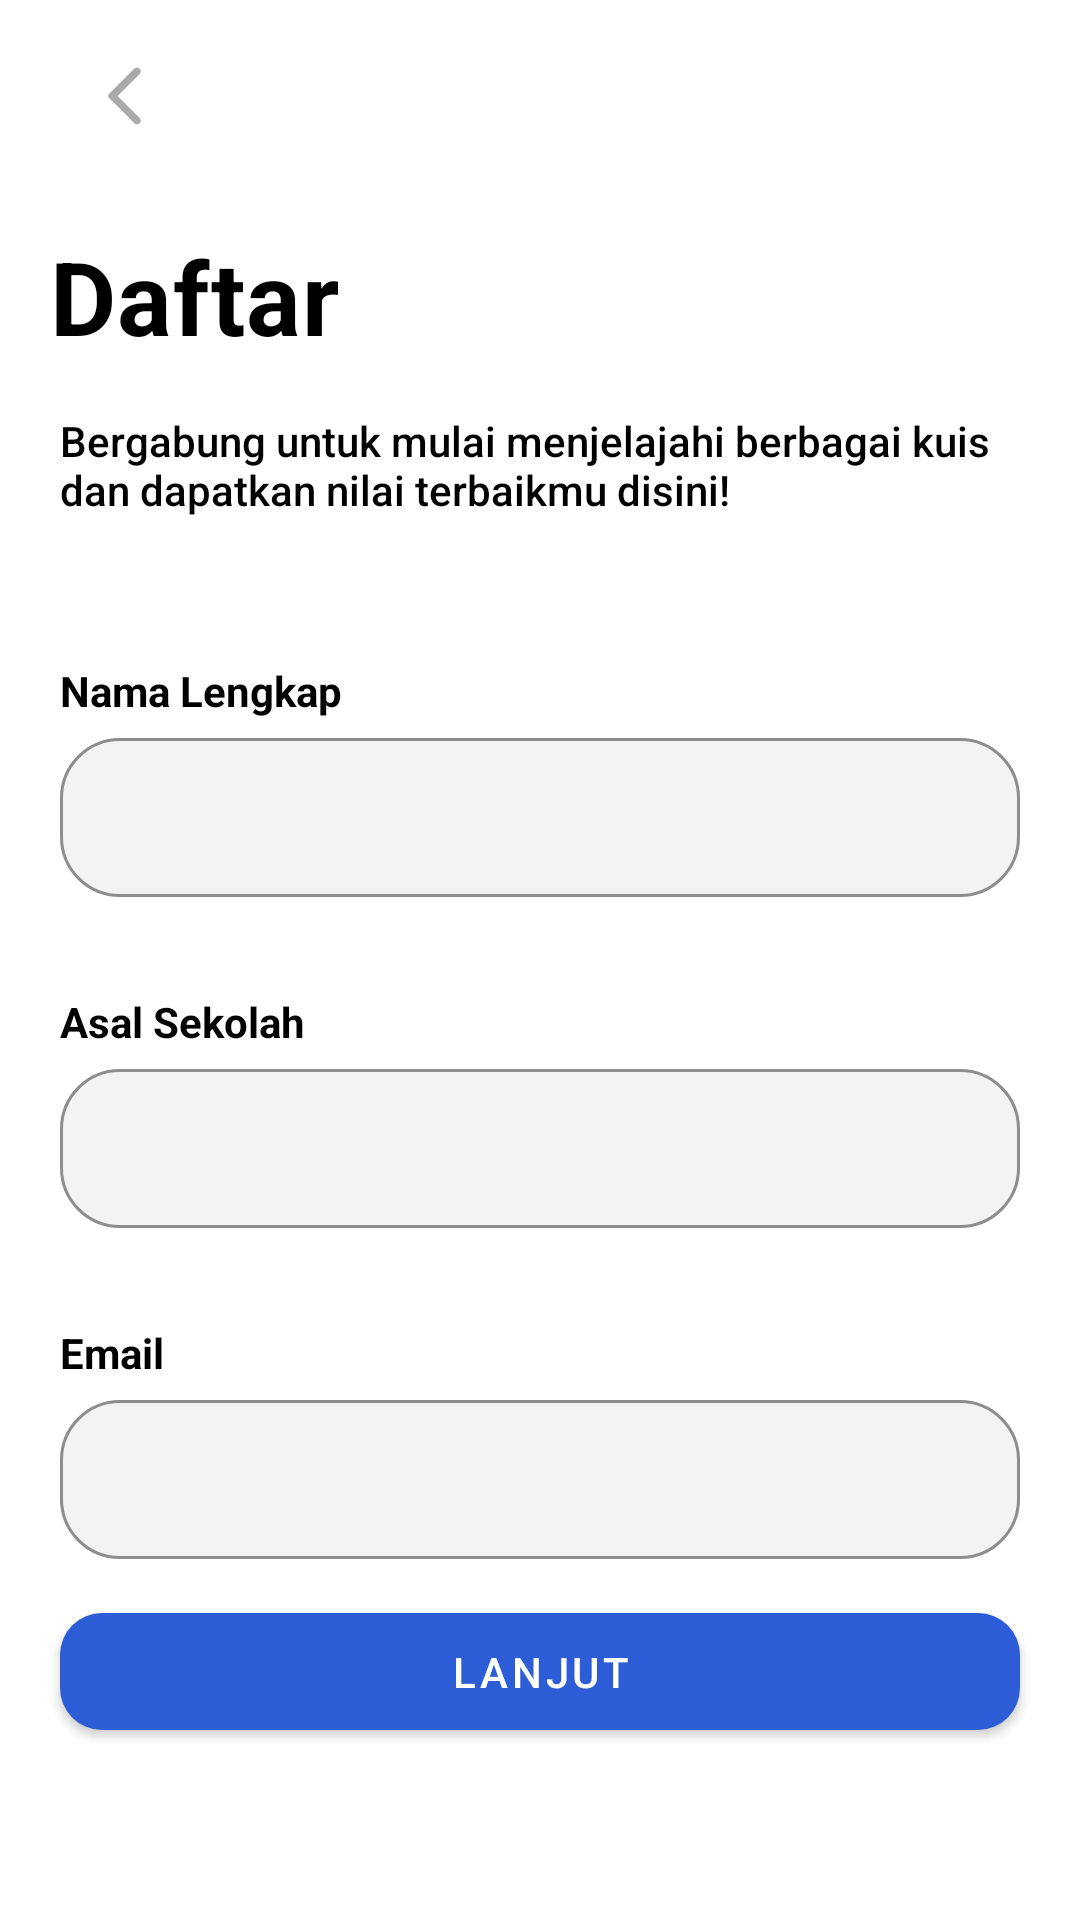

Named icons in this screenshot (1080w x 1920h) and their centers, [x,y]:
Back button: [124,96]
